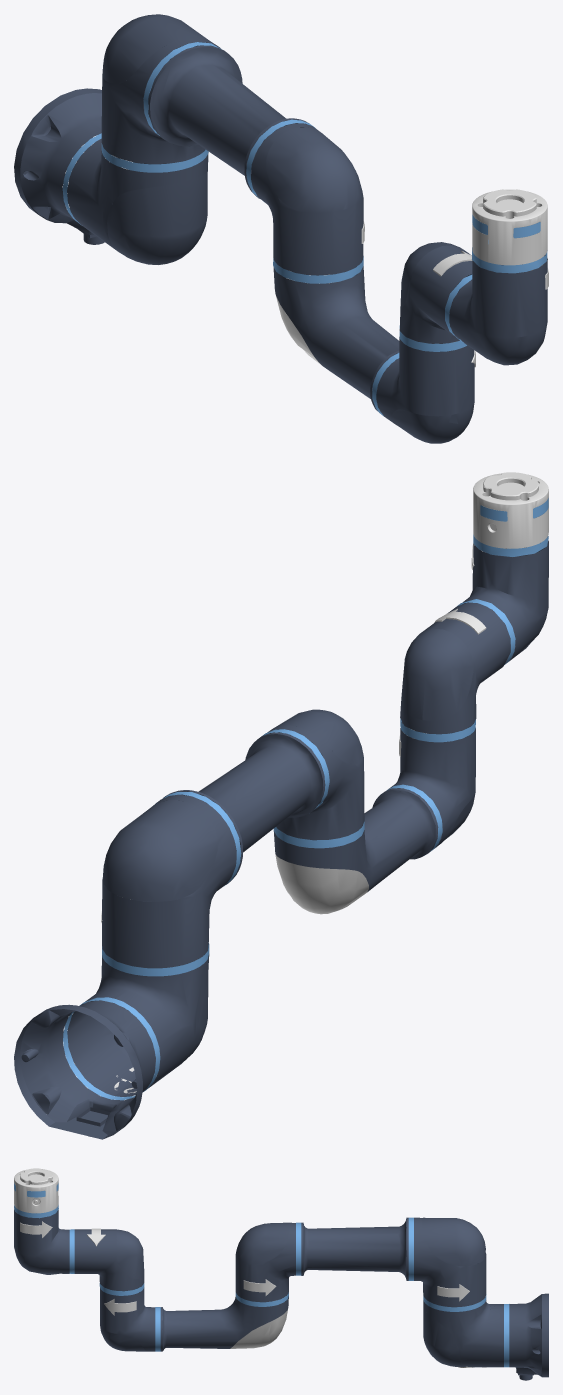
Rendered from 7kg-6axis-model-v2.glb.
3 views of the same model, one above another, from view 1: azimuth 30°, elevation 25°; view 2: azimuth 150°, elevation 25°; view 3: azimuth 270°, elevation 25° (orthographic). The views are drawn at different scales.
Visible parts, largest first — view 1: Link2, Link3, Link1, Link5, Base, Link6, Link4; view 2: Link2, Link3, Base, Link1, Link4, Link5, Link6; view 3: Link2, Link3, Link1, Link4, Base, Link5, Link6, arrow3, arrow2, arrow4, arrow6.
Boxes of the visible parts, x1,y1,x2,y2 form: Link2: (101,14,363,283); Link3: (273,262,474,443); Link1: (67,129,208,264); Link5: (449,234,547,365); Base: (14,88,150,244); Link6: (472,189,547,265); Link4: (399,242,472,343); Link2: (102,709,364,968); Link3: (273,718,475,914); Base: (14,997,160,1139); Link1: (67,943,209,1096); Link4: (400,599,515,733); Link5: (462,517,548,663); Link6: (473,472,548,548); Link2: (235,1217,486,1307); Link3: (99,1283,288,1351); Link1: (423,1294,503,1367); Link4: (69,1229,144,1291); Base: (504,1293,548,1380); Link5: (14,1197,69,1274); Link6: (14,1168,58,1213); arrow3: (243,1279,276,1295); arrow2: (437,1284,469,1301); arrow4: (104,1299,136,1315); arrow6: (20,1221,52,1237).
Bounding box in the file's own units: 0.1601 × 0.4277 × 1.02.
